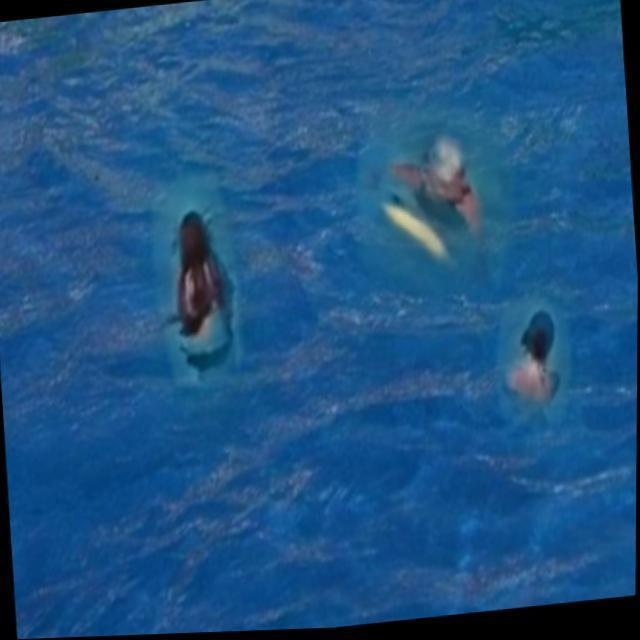swimming: (358, 122, 503, 264), (151, 194, 246, 367), (495, 310, 584, 423)
